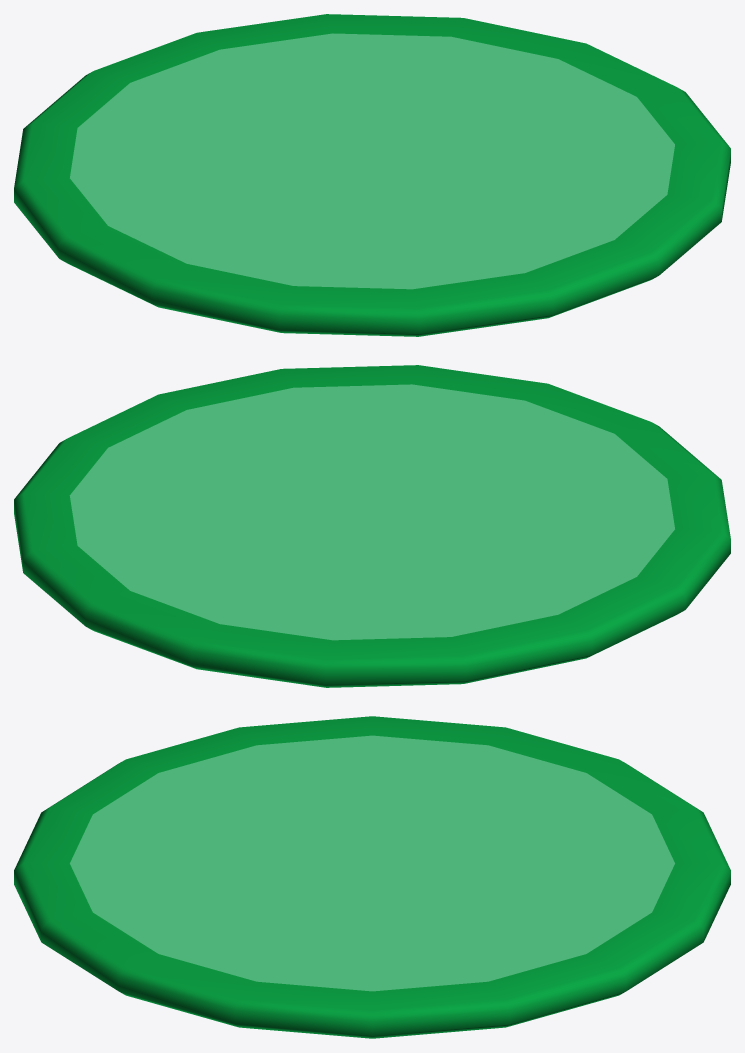
File: Store_18_Slice_Cucumber_1.glb
3 views of the same model, one above another, from view 1: azimuth 30°, elevation 25°; view 2: azimuth 150°, elevation 25°; view 3: azimuth 270°, elevation 25° (orthographic).
Visible parts, largest first — view 1: Store_18_Slice_Cucumber_1; view 2: Store_18_Slice_Cucumber_1; view 3: Store_18_Slice_Cucumber_1.
Boxes of the visible parts, x1=… form: Store_18_Slice_Cucumber_1: x1=14, y1=14, x2=730, y2=336; Store_18_Slice_Cucumber_1: x1=14, y1=365, x2=730, y2=687; Store_18_Slice_Cucumber_1: x1=14, y1=716, x2=730, y2=1038.
Size of the model in its own units: 0.1072 by 0.00461 by 0.1072.
Materials: 1 (1 with a texture image).
